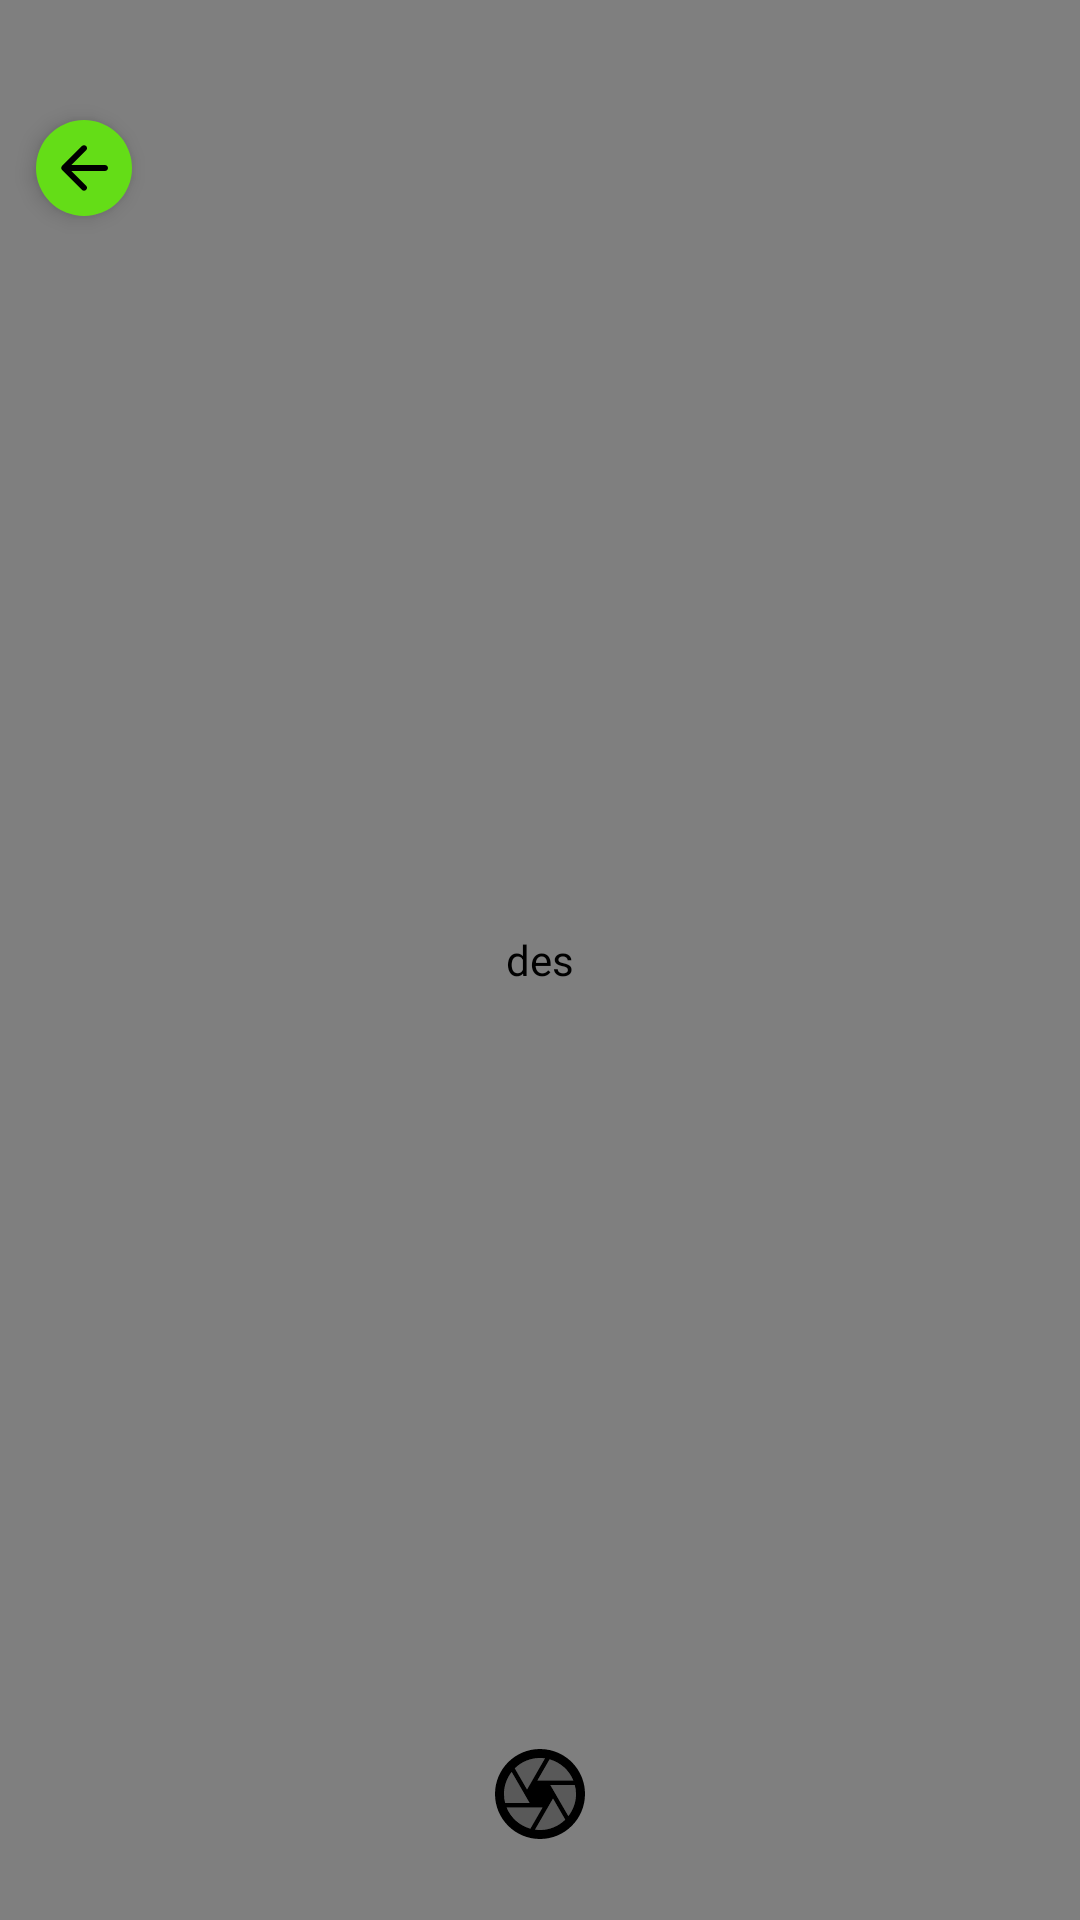

Named icons in this screenshot (1080x1920) and their bounding boxes, bbox=(x1, y1, x2, y2):
arrow back: bbox=(36, 120, 132, 216)
camera shutter: bbox=(495, 1749, 585, 1839)
